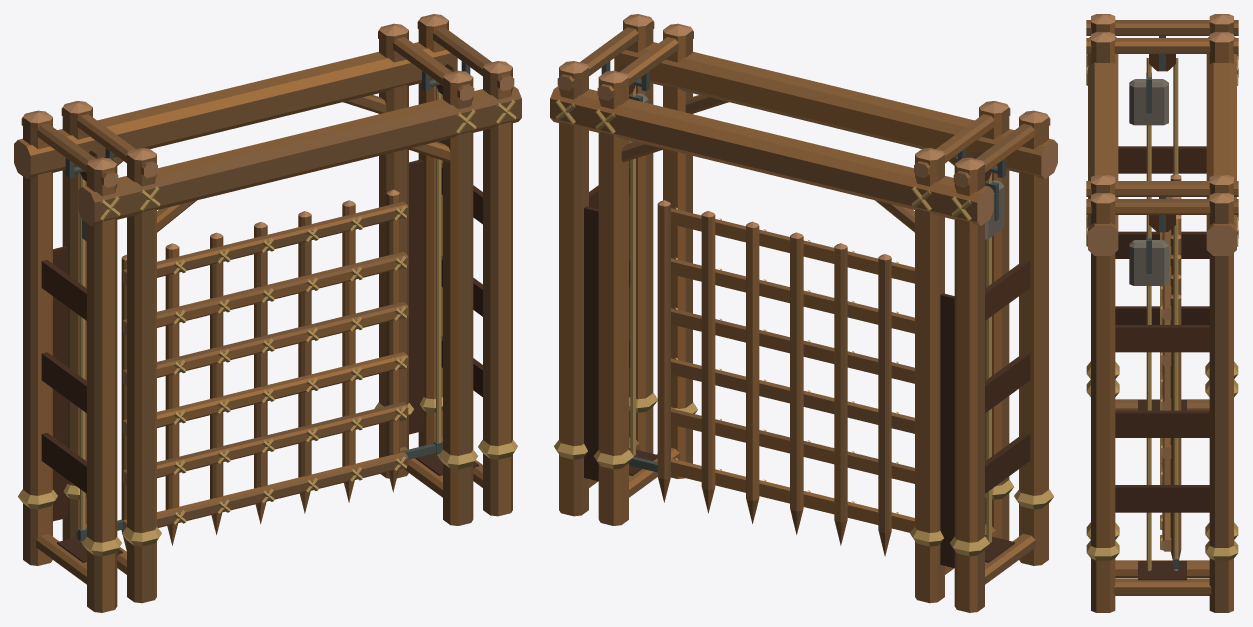
File: counterweighted-bay-gate-dcca8f.glb
The picture shows the model from 3 angles, left to right: view 1: azimuth 30°, elevation 25°; view 2: azimuth 150°, elevation 25°; view 3: azimuth 270°, elevation 25°; orthographic projection. The views are drawn at different scales.
Parts seen in each view (by area): view 1: frame, gate-lattice, ropes; view 2: frame, gate-lattice, ropes, counterweight-l-block; view 3: frame, gate-lattice, ropes, counterweight-l-block, counterweight-r-block, pulley-wheel-l, pulley-wheel-r.
Part boxes in pixels (bbox=[...]): frame: bbox=[14, 14, 521, 612]; gate-lattice: bbox=[77, 189, 442, 551]; ropes: bbox=[80, 86, 441, 542]; frame: bbox=[550, 14, 1057, 612]; gate-lattice: bbox=[629, 200, 914, 556]; ropes: bbox=[630, 86, 991, 542]; counterweight-l-block: bbox=[985, 180, 1004, 239]; frame: bbox=[1086, 14, 1238, 612]; gate-lattice: bbox=[1160, 173, 1181, 569]; ropes: bbox=[1146, 58, 1178, 570]; counterweight-l-block: bbox=[1129, 73, 1168, 125]; counterweight-r-block: bbox=[1129, 234, 1168, 285]; pulley-wheel-l: bbox=[1149, 54, 1175, 71]; pulley-wheel-r: bbox=[1149, 215, 1175, 231].
Bounding box in the file's own units: 3 × 3 × 1.
